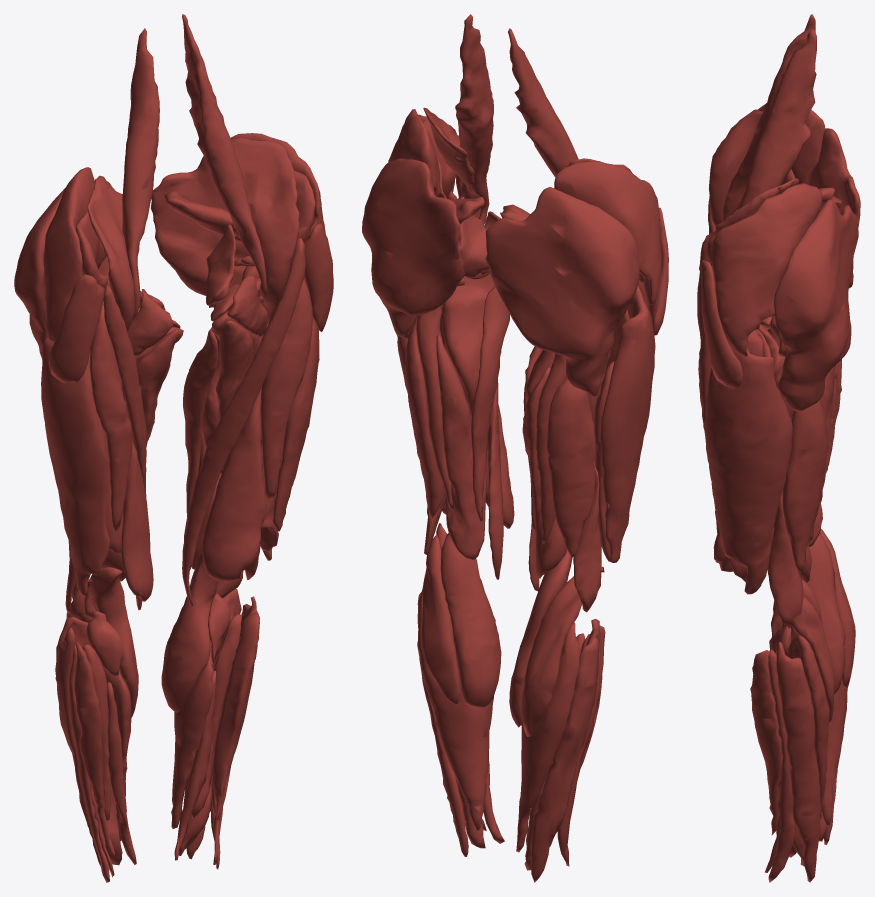
File: vhf_denver_ct_adult_female.muscular.LOD3.glb
The picture shows the model from 3 angles, left to right: view 1: azimuth 30°, elevation 25°; view 2: azimuth 150°, elevation 25°; view 3: azimuth 270°, elevation 25°; orthographic projection.
Visible parts, largest first — view 1: VHF_DENVER_CT.ADULT.FEMALE.MUSCULAR.VASTUS_LATERALIS.R, VHF_DENVER_CT.ADULT.FEMALE.MUSCULAR.GASTROCNEMIUS_MEDIAL_HEA (×2), VHF_DENVER_CT.ADULT.FEMALE.MUSCULAR.VASTUS_MEDIALIS.L, VHF_DENVER_CT.ADULT.FEMALE.MUSCULAR.SARTORIUS.L, VHF_DENVER_CT.ADULT.FEMALE.MUSCULAR.ILIACUS.L, VHF_DENVER_CT.ADULT.FEMALE.MUSCULAR.PSOAS_MAJOR.L, VHF_DENVER_CT.ADULT.FEMALE.MUSCULAR.PSOAS_MAJOR.R, VHF_DENVER_CT.ADULT.FEMALE.MUSCULAR.GLUTEUS_MAXIMUS.L, VHF_DENVER_CT.ADULT.FEMALE.MUSCULAR.RECTUS_FEMORIS.L, VHF_DENVER_CT.ADULT.FEMALE.MUSCULAR.GLUTEUS_MEDIUS.R, VHF_DENVER_CT.ADULT.FEMALE.MUSCULAR.RECTUS_FEMORIS.R, VHF_DENVER_CT.ADULT.FEMALE.MUSCULAR.TIBIALIS_ANTERIOR.L (+33 smaller); view 2: VHF_DENVER_CT.ADULT.FEMALE.MUSCULAR.GLUTEUS_MAXIMUS.R, VHF_DENVER_CT.ADULT.FEMALE.MUSCULAR.GLUTEUS_MAXIMUS.L, VHF_DENVER_CT.ADULT.FEMALE.MUSCULAR.BICEPS_FEMORIS_LONG_HEAD (×2), VHF_DENVER_CT.ADULT.FEMALE.MUSCULAR.GASTROCNEMIUS_MEDIAL_HEA (×2), VHF_DENVER_CT.ADULT.FEMALE.MUSCULAR.VASTUS_LATERALIS.R, VHF_DENVER_CT.ADULT.FEMALE.MUSCULAR.GASTROCNEMIUS_LATERAL_HE (×2), VHF_DENVER_CT.ADULT.FEMALE.MUSCULAR.FIBULARIS_PERONEUS_LONGU (×2), VHF_DENVER_CT.ADULT.FEMALE.MUSCULAR.GLUTEUS_MEDIUS.R, VHF_DENVER_CT.ADULT.FEMALE.MUSCULAR.SEMIMEMBRANOSUS.L, VHF_DENVER_CT.ADULT.FEMALE.MUSCULAR.SOLEUS.L, VHF_DENVER_CT.ADULT.FEMALE.MUSCULAR.SOLEUS.R, VHF_DENVER_CT.ADULT.FEMALE.MUSCULAR.PSOAS_MAJOR.L (+17 smaller); view 3: VHF_DENVER_CT.ADULT.FEMALE.MUSCULAR.VASTUS_LATERALIS.L, VHF_DENVER_CT.ADULT.FEMALE.MUSCULAR.GLUTEUS_MAXIMUS.L, VHF_DENVER_CT.ADULT.FEMALE.MUSCULAR.GLUTEUS_MEDIUS.L, VHF_DENVER_CT.ADULT.FEMALE.MUSCULAR.PSOAS_MAJOR.L, VHF_DENVER_CT.ADULT.FEMALE.MUSCULAR.FIBULARIS_PERONEUS_LONGU, VHF_DENVER_CT.ADULT.FEMALE.MUSCULAR.BICEPS_FEMORIS_LONG_HEAD, VHF_DENVER_CT.ADULT.FEMALE.MUSCULAR.GASTROCNEMIUS_LATERAL_HE (×2), VHF_DENVER_CT.ADULT.FEMALE.MUSCULAR.GASTROCNEMIUS_MEDIAL_HEA (×2), VHF_DENVER_CT.ADULT.FEMALE.MUSCULAR.TIBIALIS_ANTERIOR.L, VHF_DENVER_CT.ADULT.FEMALE.MUSCULAR.BICEPS_FEMORIS_SHORT_HEA, VHF_DENVER_CT.ADULT.FEMALE.MUSCULAR.ILIACUS.R, VHF_DENVER_CT.ADULT.FEMALE.MUSCULAR.TENSOR_FASCIAE_LATAE.L (+13 smaller).
Boxes of the visible parts, x1,y1,x2,y2 form: VHF_DENVER_CT.ADULT.FEMALE.MUSCULAR.VASTUS_LATERALIS.R: (41,338,109,595); VHF_DENVER_CT.ADULT.FEMALE.MUSCULAR.GASTROCNEMIUS_MEDIAL_HEA (×2): (89,557,217,717); VHF_DENVER_CT.ADULT.FEMALE.MUSCULAR.VASTUS_MEDIALIS.L: (202,387,266,580); VHF_DENVER_CT.ADULT.FEMALE.MUSCULAR.SARTORIUS.L: (182,238,305,606); VHF_DENVER_CT.ADULT.FEMALE.MUSCULAR.ILIACUS.L: (231,137,299,324); VHF_DENVER_CT.ADULT.FEMALE.MUSCULAR.PSOAS_MAJOR.L: (182,14,267,299); VHF_DENVER_CT.ADULT.FEMALE.MUSCULAR.PSOAS_MAJOR.R: (122,28,159,317); VHF_DENVER_CT.ADULT.FEMALE.MUSCULAR.GLUTEUS_MAXIMUS.L: (150,156,290,295); VHF_DENVER_CT.ADULT.FEMALE.MUSCULAR.RECTUS_FEMORIS.L: (260,260,312,500); VHF_DENVER_CT.ADULT.FEMALE.MUSCULAR.GLUTEUS_MEDIUS.R: (43,167,95,341); VHF_DENVER_CT.ADULT.FEMALE.MUSCULAR.RECTUS_FEMORIS.R: (89,305,132,531); VHF_DENVER_CT.ADULT.FEMALE.MUSCULAR.TIBIALIS_ANTERIOR.L: (212,612,259,820); VHF_DENVER_CT.ADULT.FEMALE.MUSCULAR.GLUTEUS_MAXIMUS.R: (485,187,639,396); VHF_DENVER_CT.ADULT.FEMALE.MUSCULAR.GLUTEUS_MAXIMUS.L: (362,158,464,338); VHF_DENVER_CT.ADULT.FEMALE.MUSCULAR.BICEPS_FEMORIS_LONG_HEAD (×2): (405,316,595,557); VHF_DENVER_CT.ADULT.FEMALE.MUSCULAR.GASTROCNEMIUS_MEDIAL_HEA (×2): (440,533,572,727); VHF_DENVER_CT.ADULT.FEMALE.MUSCULAR.VASTUS_LATERALIS.R: (600,286,655,562); VHF_DENVER_CT.ADULT.FEMALE.MUSCULAR.GASTROCNEMIUS_LATERAL_HE (×2): (421,535,581,736); VHF_DENVER_CT.ADULT.FEMALE.MUSCULAR.FIBULARIS_PERONEUS_LONGU (×2): (417,592,599,882); VHF_DENVER_CT.ADULT.FEMALE.MUSCULAR.GLUTEUS_MEDIUS.R: (554,161,661,304); VHF_DENVER_CT.ADULT.FEMALE.MUSCULAR.SEMIMEMBRANOSUS.L: (436,334,486,560); VHF_DENVER_CT.ADULT.FEMALE.MUSCULAR.SOLEUS.L: (417,587,493,830); VHF_DENVER_CT.ADULT.FEMALE.MUSCULAR.SOLEUS.R: (516,622,579,852); VHF_DENVER_CT.ADULT.FEMALE.MUSCULAR.PSOAS_MAJOR.L: (455,14,493,224); VHF_DENVER_CT.ADULT.FEMALE.MUSCULAR.VASTUS_LATERALIS.L: (704,340,792,594); VHF_DENVER_CT.ADULT.FEMALE.MUSCULAR.GLUTEUS_MAXIMUS.L: (774,199,858,411); VHF_DENVER_CT.ADULT.FEMALE.MUSCULAR.GLUTEUS_MEDIUS.L: (711,183,822,356); VHF_DENVER_CT.ADULT.FEMALE.MUSCULAR.PSOAS_MAJOR.L: (739,29,816,208); VHF_DENVER_CT.ADULT.FEMALE.MUSCULAR.FIBULARIS_PERONEUS_LONGU: (776,641,820,882); VHF_DENVER_CT.ADULT.FEMALE.MUSCULAR.BICEPS_FEMORIS_LONG_HEAD: (782,400,827,572); VHF_DENVER_CT.ADULT.FEMALE.MUSCULAR.GASTROCNEMIUS_LATERAL_HE (×2): (791,529,855,722); VHF_DENVER_CT.ADULT.FEMALE.MUSCULAR.GASTROCNEMIUS_MEDIAL_HEA (×2): (767,533,845,694); VHF_DENVER_CT.ADULT.FEMALE.MUSCULAR.TIBIALIS_ANTERIOR.L: (750,650,782,834); VHF_DENVER_CT.ADULT.FEMALE.MUSCULAR.BICEPS_FEMORIS_SHORT_HEA: (767,491,803,628); VHF_DENVER_CT.ADULT.FEMALE.MUSCULAR.ILIACUS.R: (708,109,763,226); VHF_DENVER_CT.ADULT.FEMALE.MUSCULAR.TENSOR_FASCIAE_LATAE.L: (701,260,743,388).
Bounding box in the file's own units: 0.3428 × 1.02 × 0.1783.
